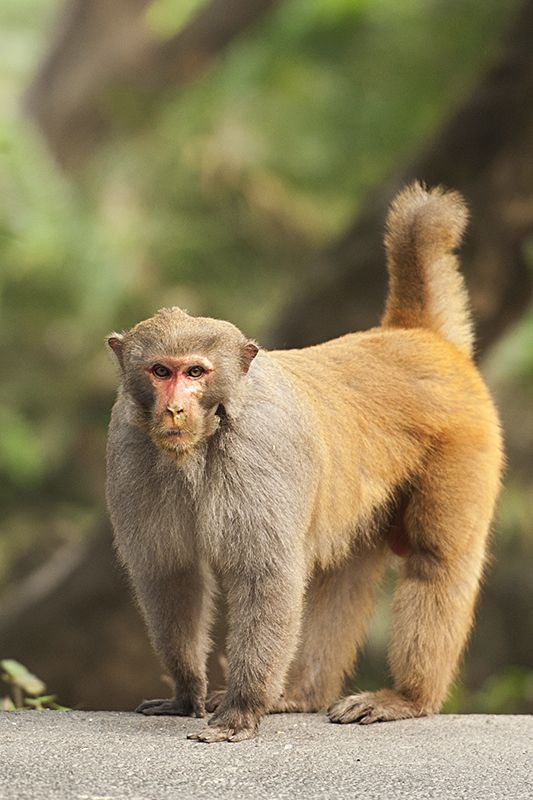monkey: (82, 177, 493, 744)
